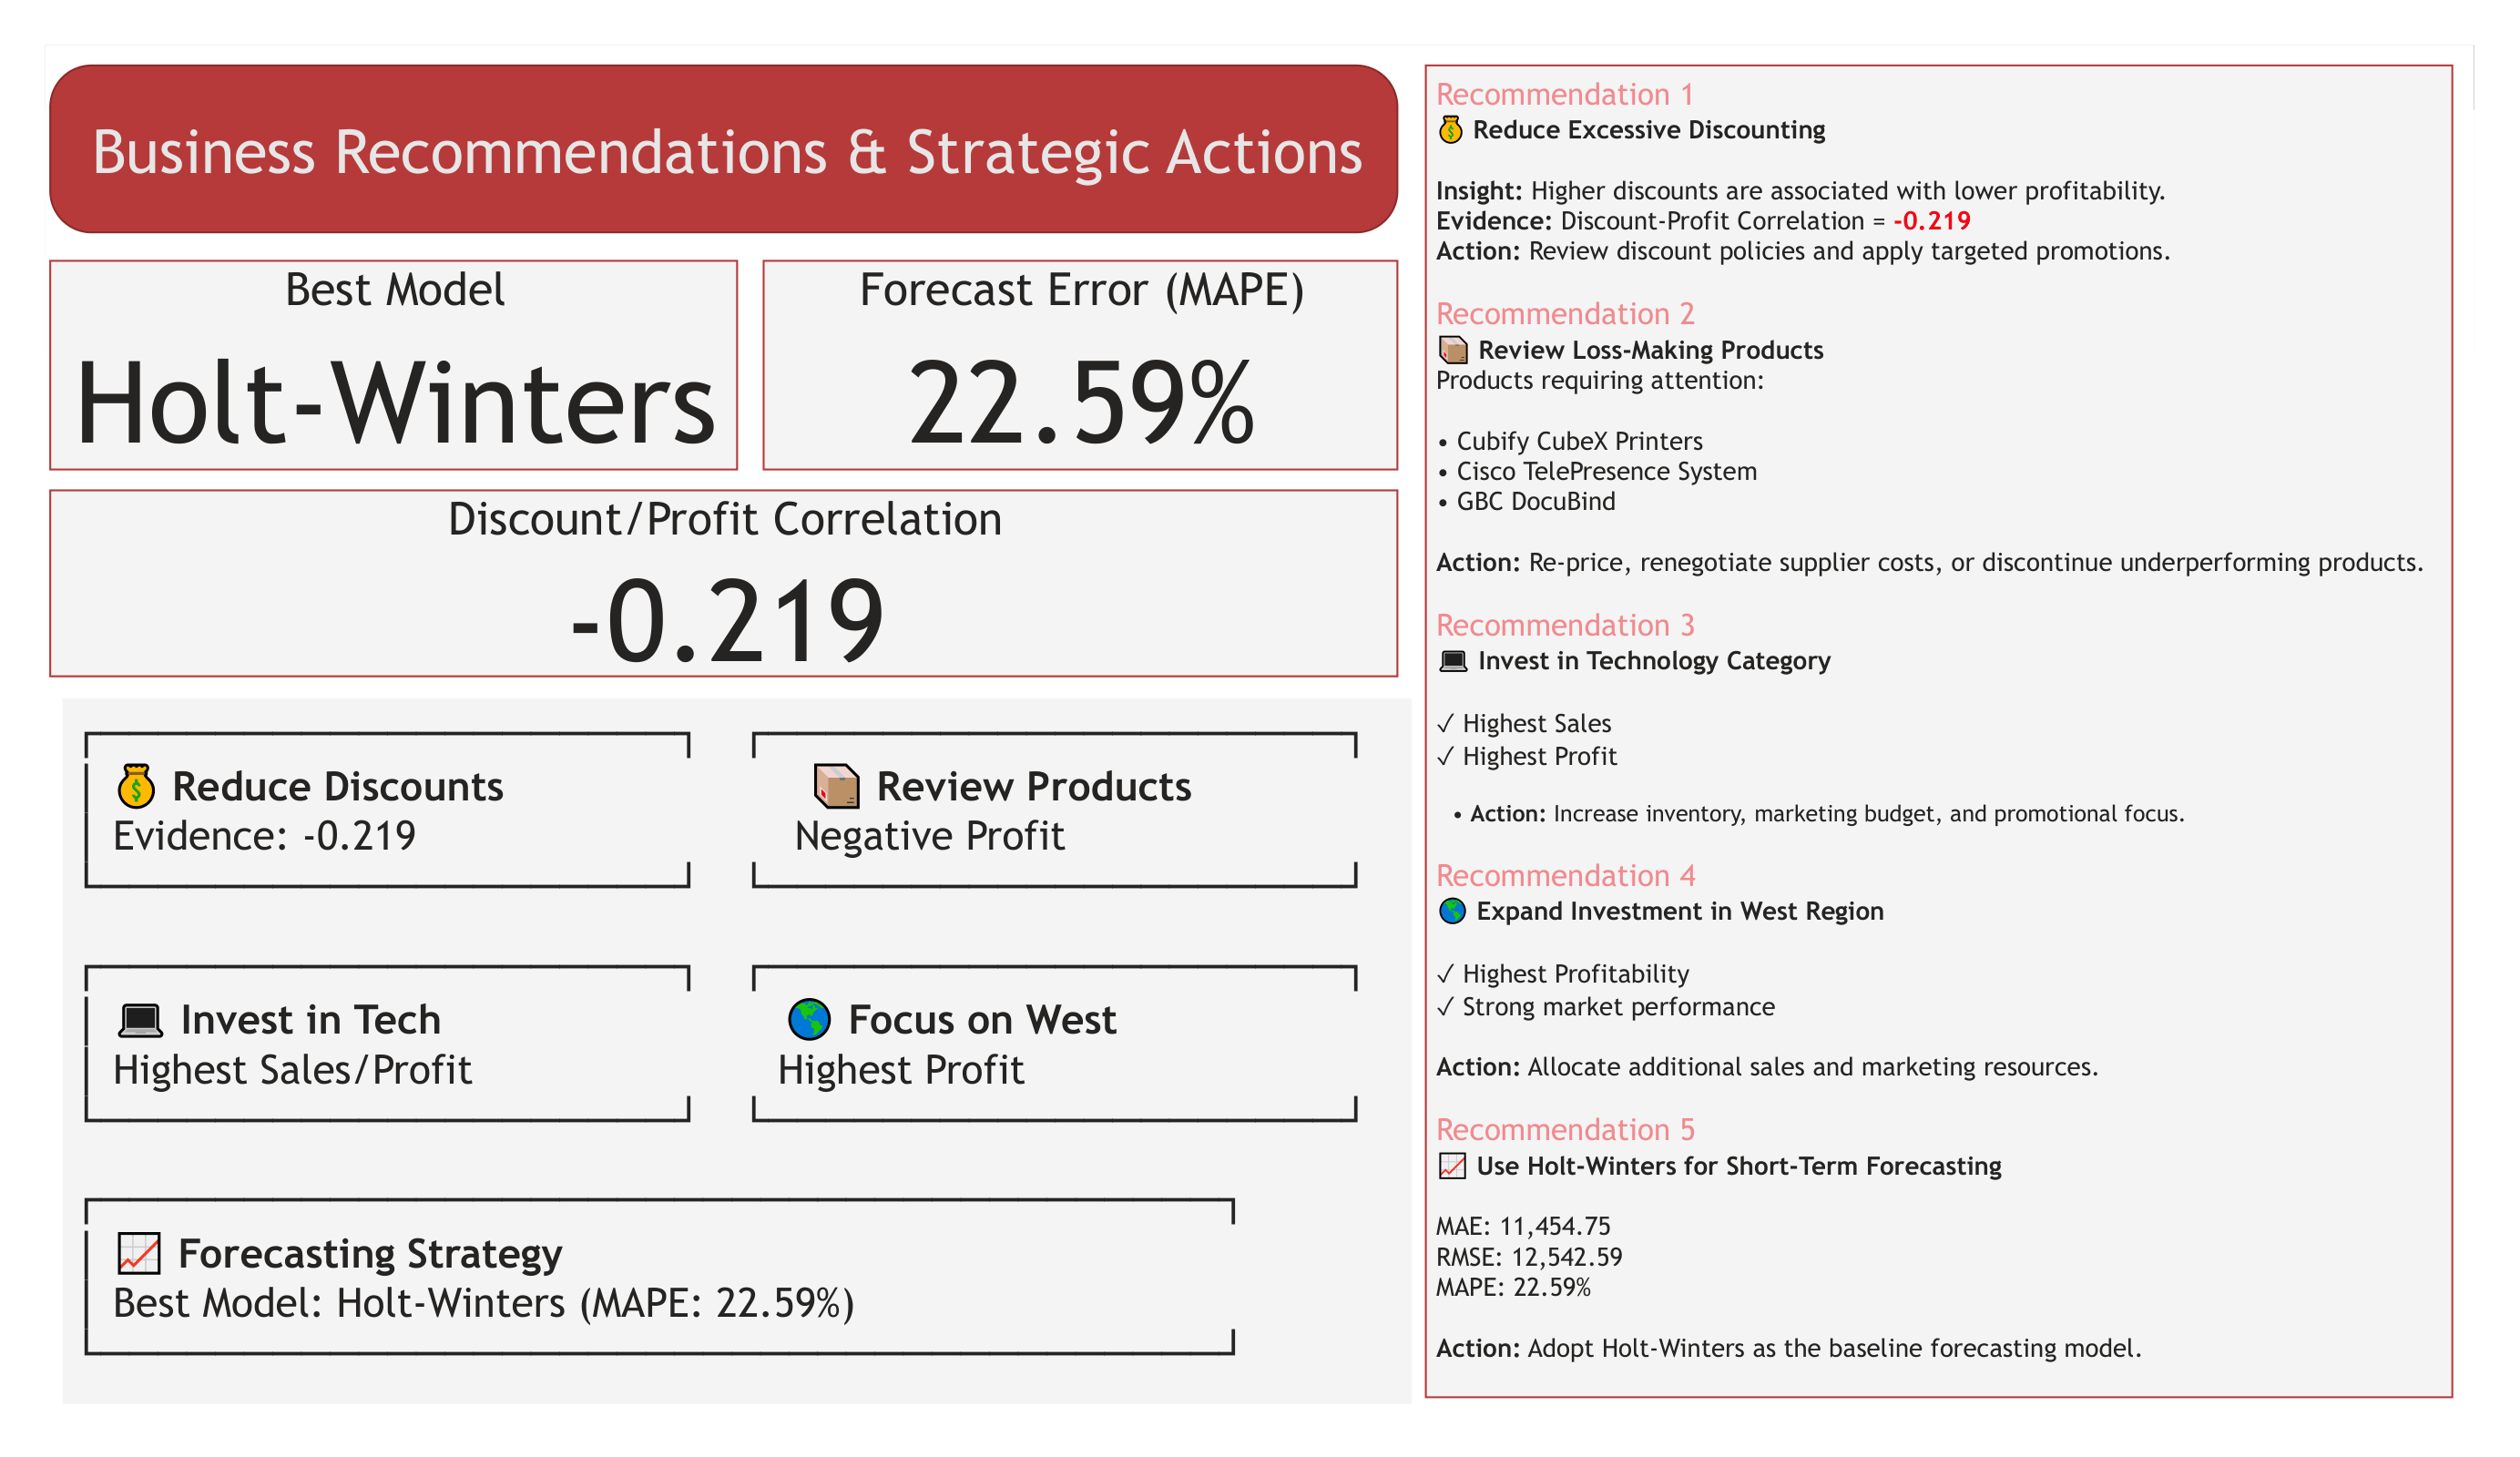

What the dashboard file says about the page in this screenshot:
{"tool":"powerbi","page":{"name":"Recommendations","canvas":[1280,720],"ordinal":3},"visuals":[{"type":"textbox","box":[727.2,9.6,541.5,703.1],"z":0},{"type":"card","title":"Best Model","fields":{"Values":["forecast_comparison.Best Model"]},"box":[2.2,113.4,363,111],"z":1000},{"type":"card","title":"Forecast Error (MAPE)","fields":{"Values":["forecast_comparison.Best MAPE"]},"box":[378.5,113.4,334.1,111],"z":2000},{"type":"card","title":"Discount/Profit Correlation","fields":{"Values":["forecast_comparison.Discount Profit Correlation"]},"box":[2.2,234,710.4,98.9],"z":3000},{"type":"textbox","box":[9.4,343.7,710.4,372.7],"z":4000},{"type":"shape","box":[2.4,9.6,710.4,89.2],"z":5000},{"type":"textbox","box":[9.4,31.8,700.7,48.2],"z":6000}]}

Visuals, with their boxes on the page's 1280x720 design canvas (x1, y1, x2, y2). These are canvas units, not pixel positions in the 2520x1457 screenshot, which may show the page scaled, cropped or inside an application window:
textbox: <box>727,10,1269,713</box>
"Best Model" card: <box>2,113,365,224</box>
"Forecast Error (MAPE)" card: <box>378,113,713,224</box>
"Discount/Profit Correlation" card: <box>2,234,713,333</box>
textbox: <box>9,344,720,716</box>
shape: <box>2,10,713,99</box>
textbox: <box>9,32,710,80</box>
